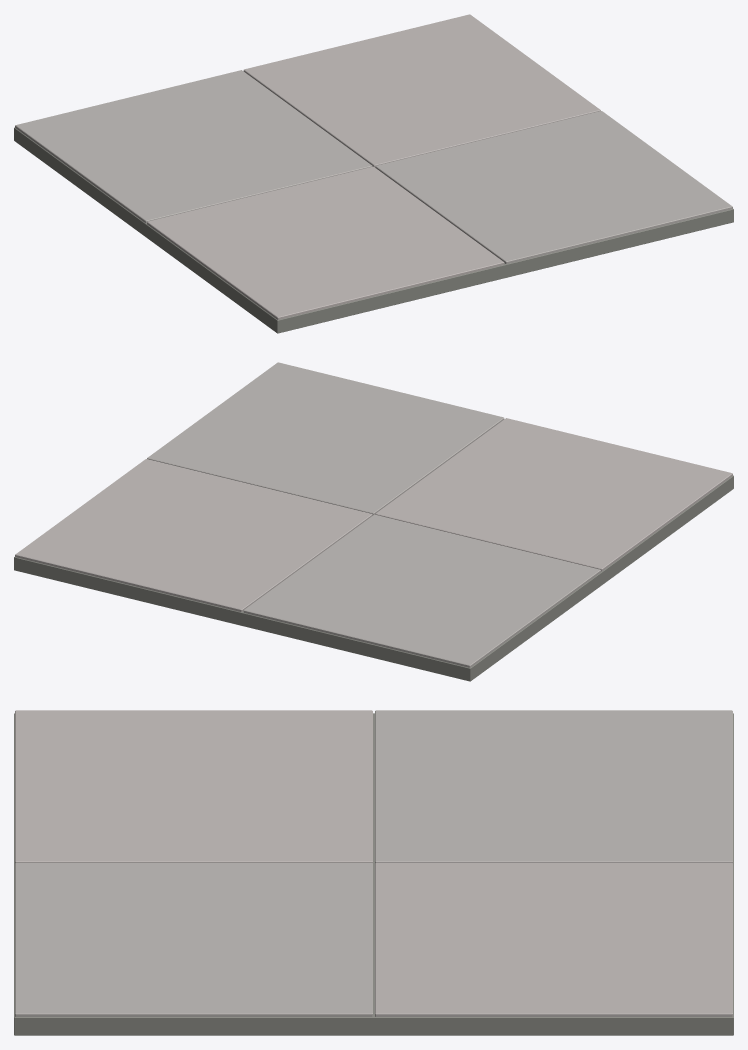
The model's file is mobile.glb.
3 views of the same model, one above another, from view 1: azimuth 30°, elevation 25°; view 2: azimuth 150°, elevation 25°; view 3: azimuth 270°, elevation 25° (orthographic). The views are drawn at different scales.
Size of the model in its own units: 3 by 0.1 by 3.
1 material, 1 textured.
